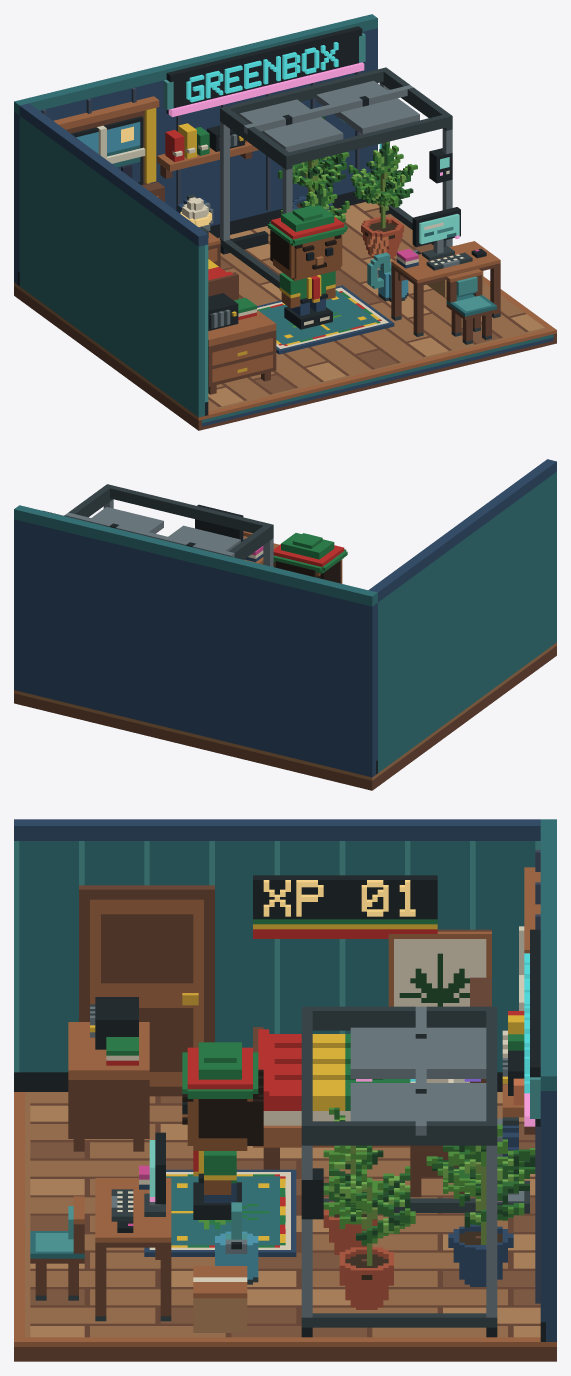
The model's file is starter_loft.glb.
The picture shows the model from 3 angles, top to bottom: view 1: azimuth 30°, elevation 25°; view 2: azimuth 150°, elevation 25°; view 3: azimuth 270°, elevation 25°; orthographic projection. The views are drawn at different scales.
Visible parts, largest first — view 1: starter_loft; view 2: starter_loft; view 3: starter_loft.
Part boxes in pixels (box(x1,y1,x2,y2)): starter_loft: box(14, 14, 556, 430); starter_loft: box(14, 459, 556, 790); starter_loft: box(14, 819, 556, 1361).
Size of the model in its own units: 5.6 by 2.9 by 5.
Materials: 2 (2 with a texture image).
